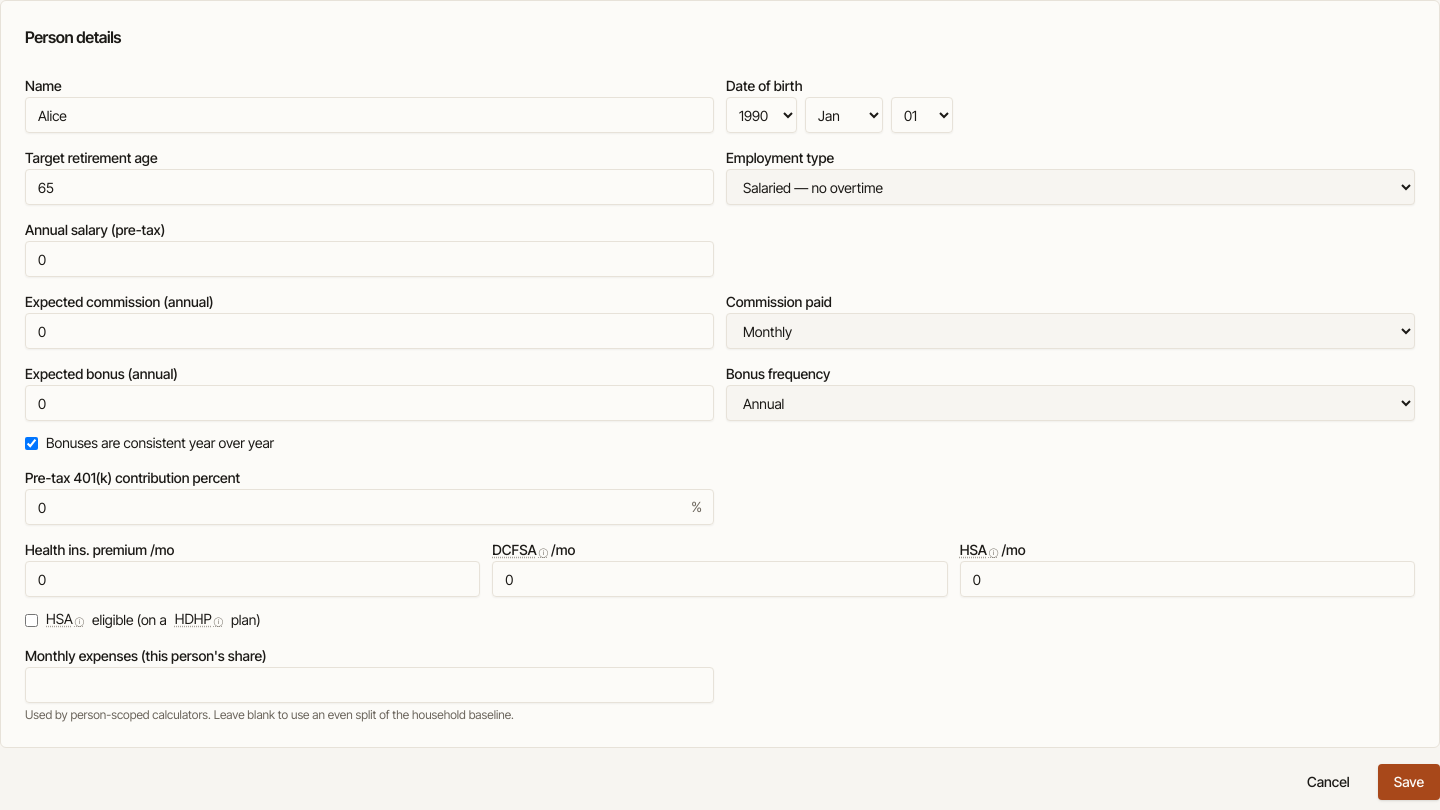
Scenario: PersonForm — W10 M44 error honesty › surfaces a rejected save as a role=alert banner instead of swallowing it (W10 M44)
The image size is (1440, 810).
Click the button "Save": (1409, 782) x1=1378 y1=764 x2=1439 y2=800
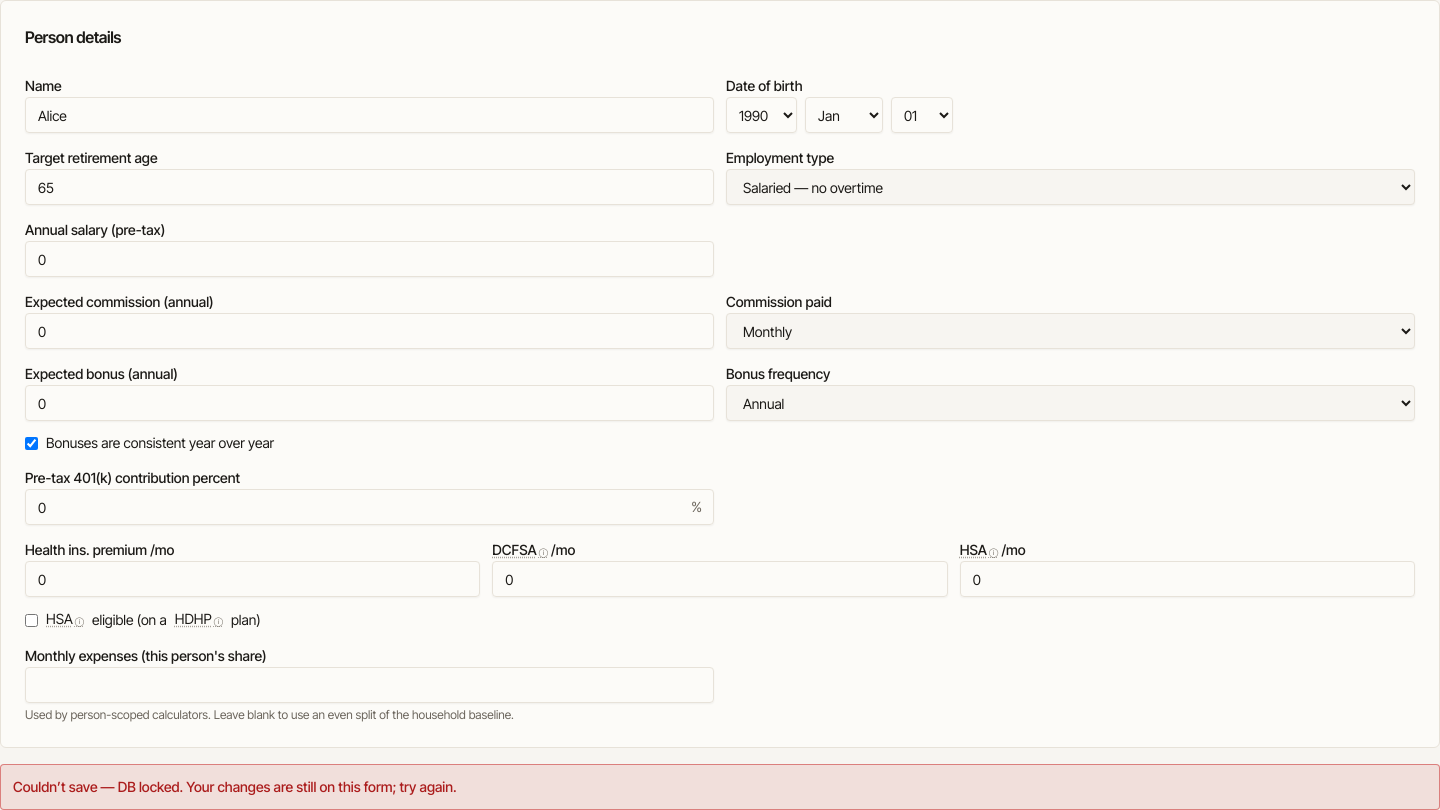
Check: the message reads "Couldn’t save — DB locked. Your changes are still on this form; try again.", box x1=0 y1=764 x2=1439 y2=809
